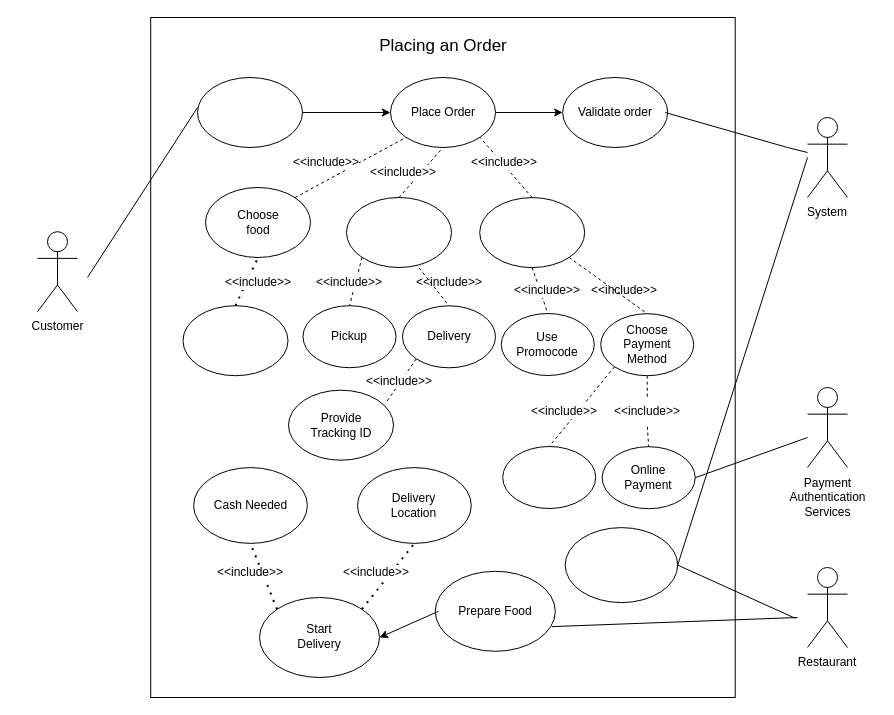
This 894x715 diagram has some shape labels left out. Here are the shapes that lost their labels. From the top down, the centre of each, then its label:
(249,112): Browse Restaurants
(399,232): Choose Delivery/Pickup
(532,232): Payment Details
(235,340): Add Specials
(549,477): Cash On Delivery
(621,565): Notify Restaurant
